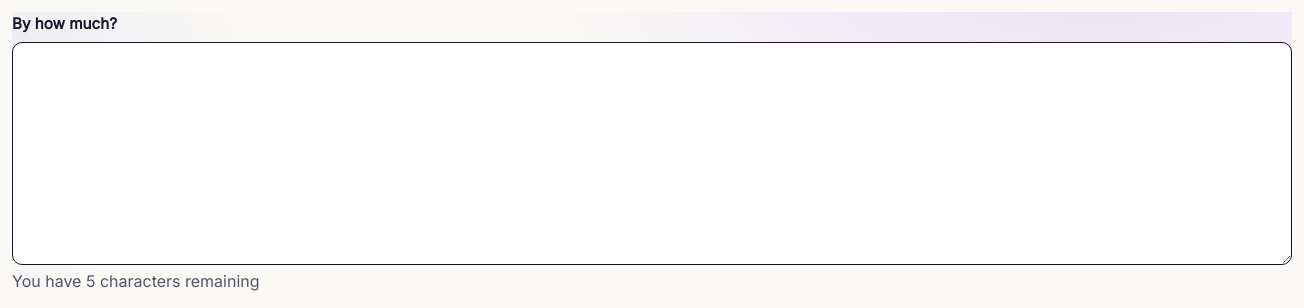
Test: CharacterCount › says how many too many, without stopping the typing, so a long paste can be trimmed
Type "By 40 per cent" into the text box at (652, 153), box [12,42,1292,265]
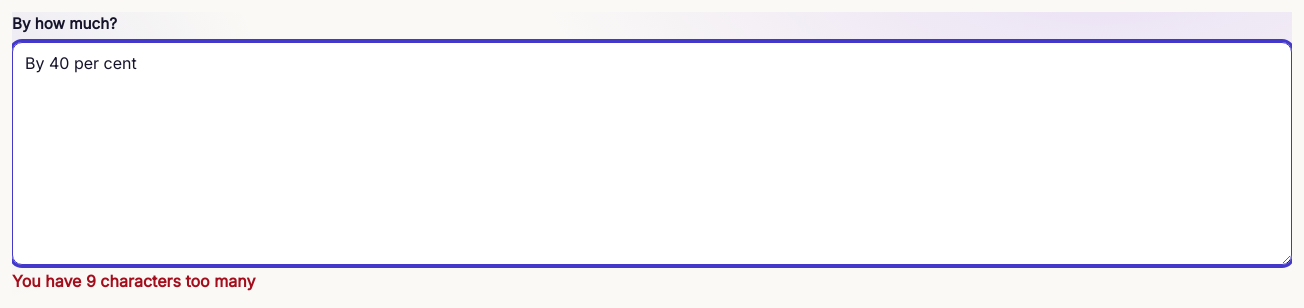
Expected: the text "You have 9 characters too many" is shown, [12,271,255,291]
